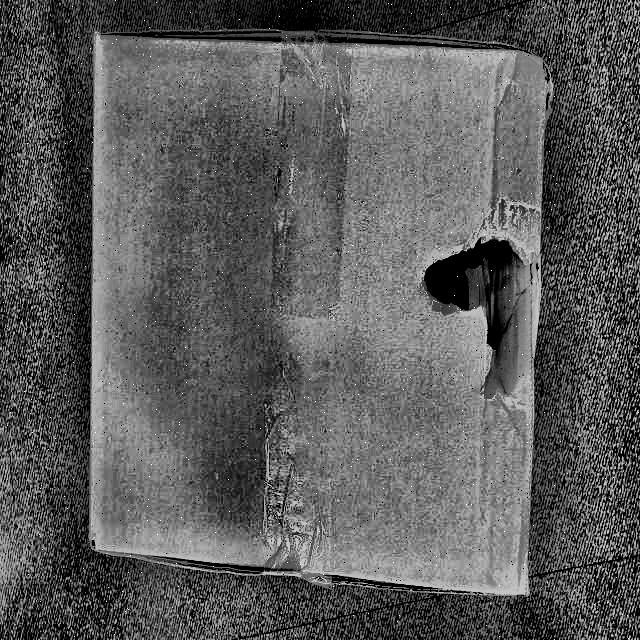box: (77, 21, 555, 601)
hole: (420, 245, 519, 369)
